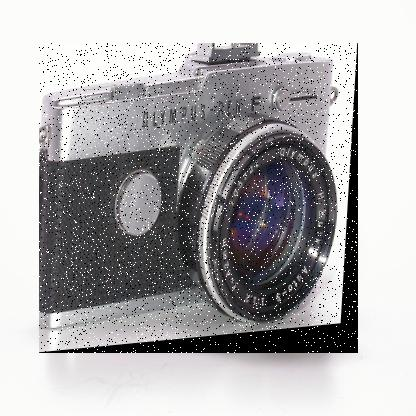Camera: (40, 44, 360, 355)
